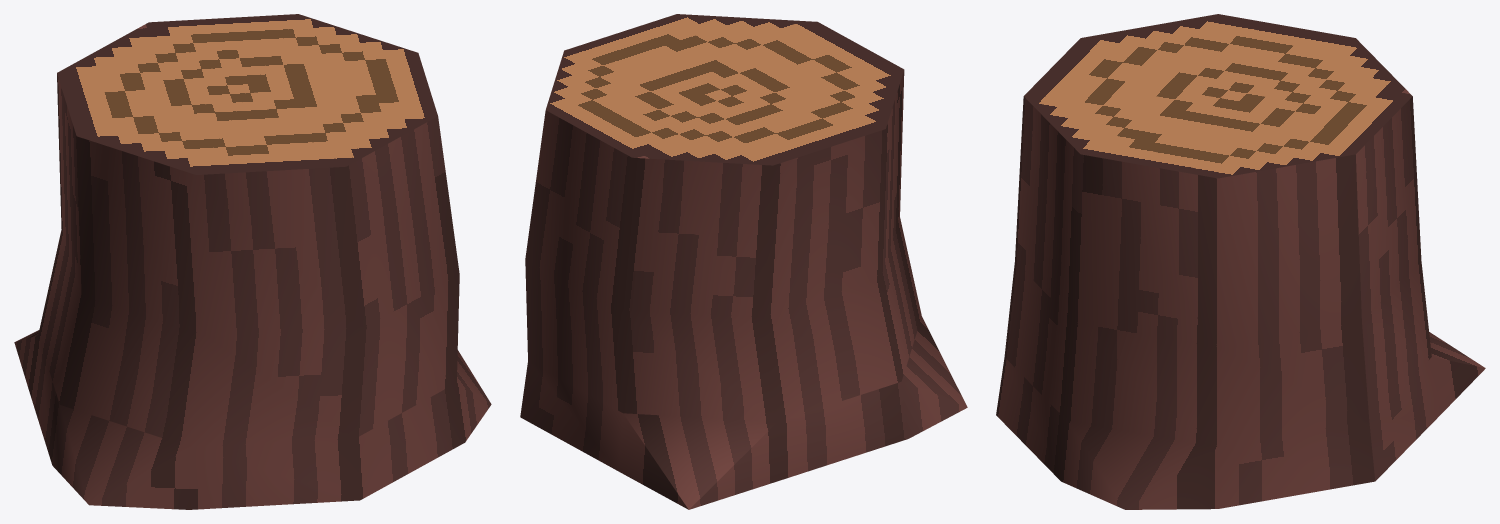
File: mdl_stump.fbx
3 renders of one model, left to right at view 1: azimuth 30°, elevation 25°; view 2: azimuth 150°, elevation 25°; view 3: azimuth 270°, elevation 25°, orthographic. The views are drawn at different scales.
Visible parts, largest first — view 1: Toco; view 2: Toco; view 3: Toco.
Part boxes in pixels (box(x1,y1,x2,y2)): Toco: box(14, 14, 491, 509); Toco: box(520, 14, 967, 509); Toco: box(996, 14, 1485, 509).
Size of the model in its own units: 0.1639 by 0.125 by 0.174.
